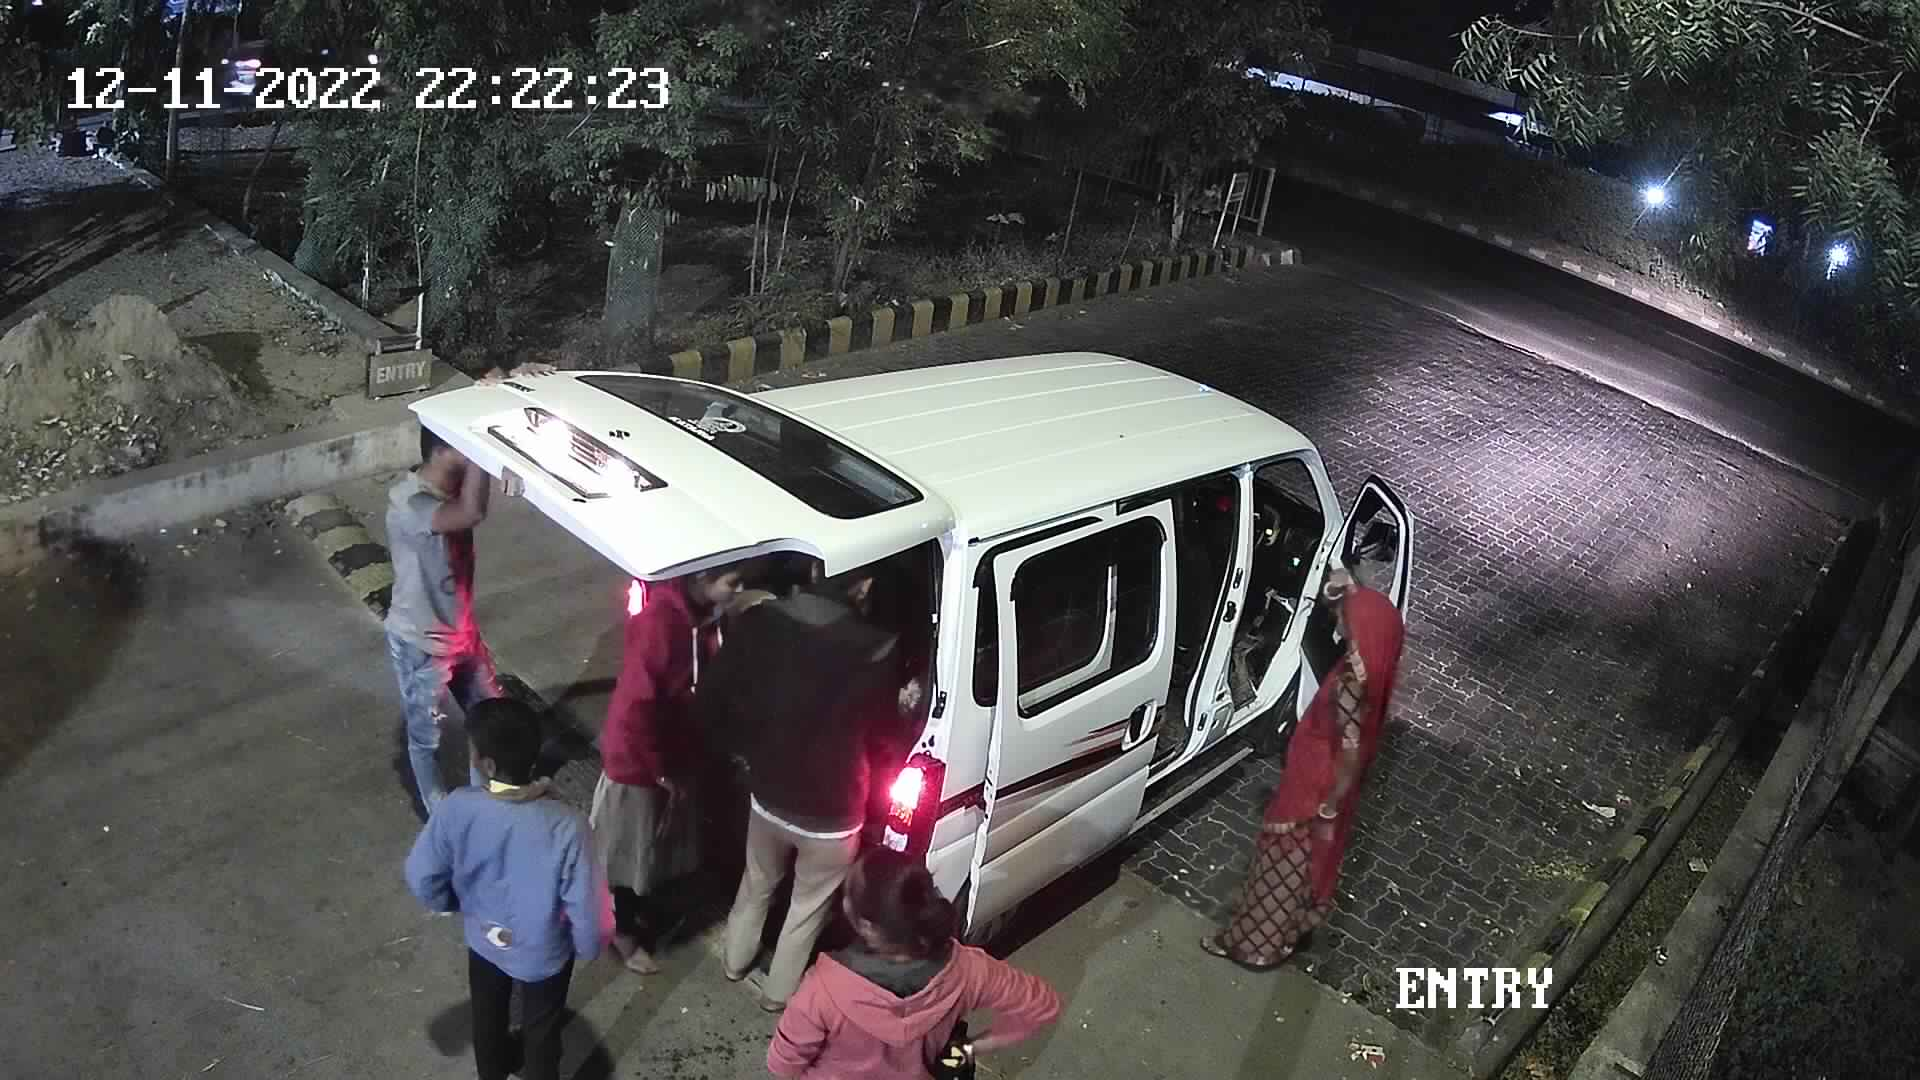Car: (396, 340, 1423, 963)
